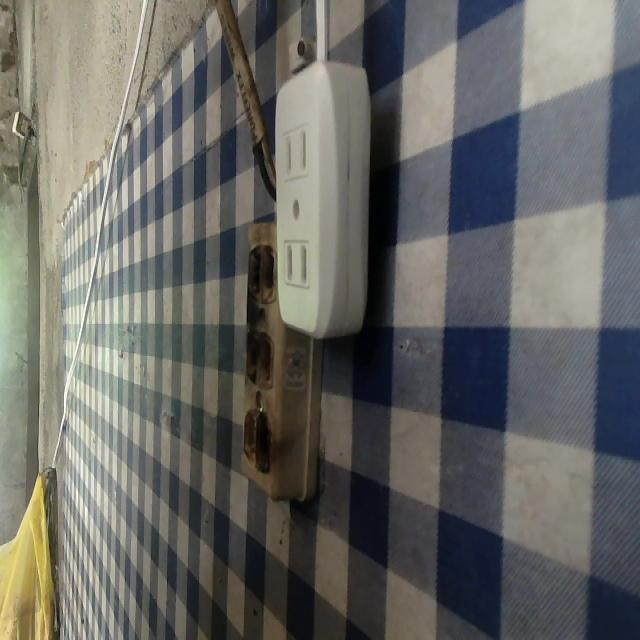-: (233, 405, 282, 472), (238, 323, 279, 392), (242, 240, 280, 304)
